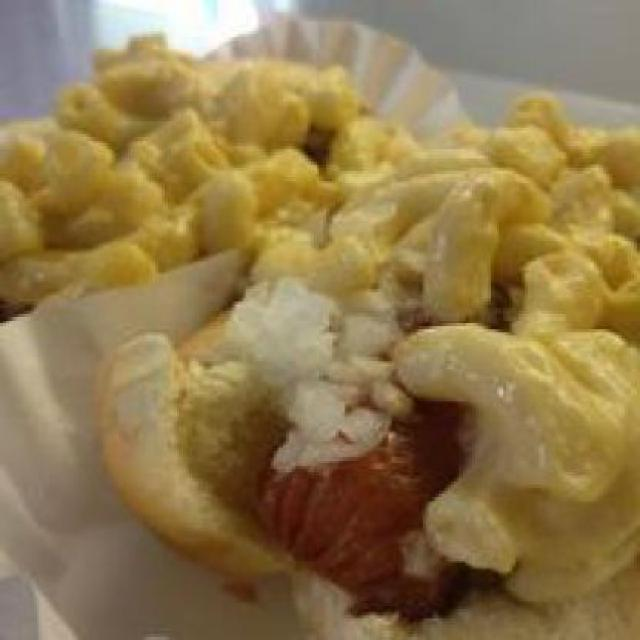hot dog: (238, 382, 478, 616)
macaroni and cheese: (3, 41, 634, 367)
